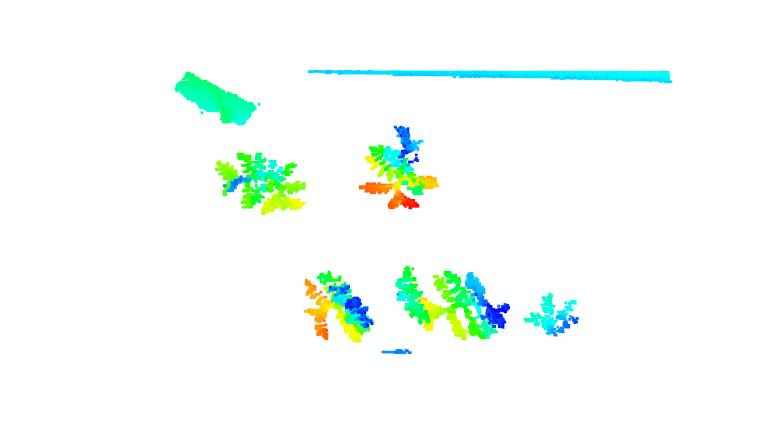chickpea: (359, 126, 439, 211), (420, 268, 510, 340), (214, 149, 306, 213), (302, 270, 376, 342), (522, 293, 581, 339), (391, 263, 432, 325)
